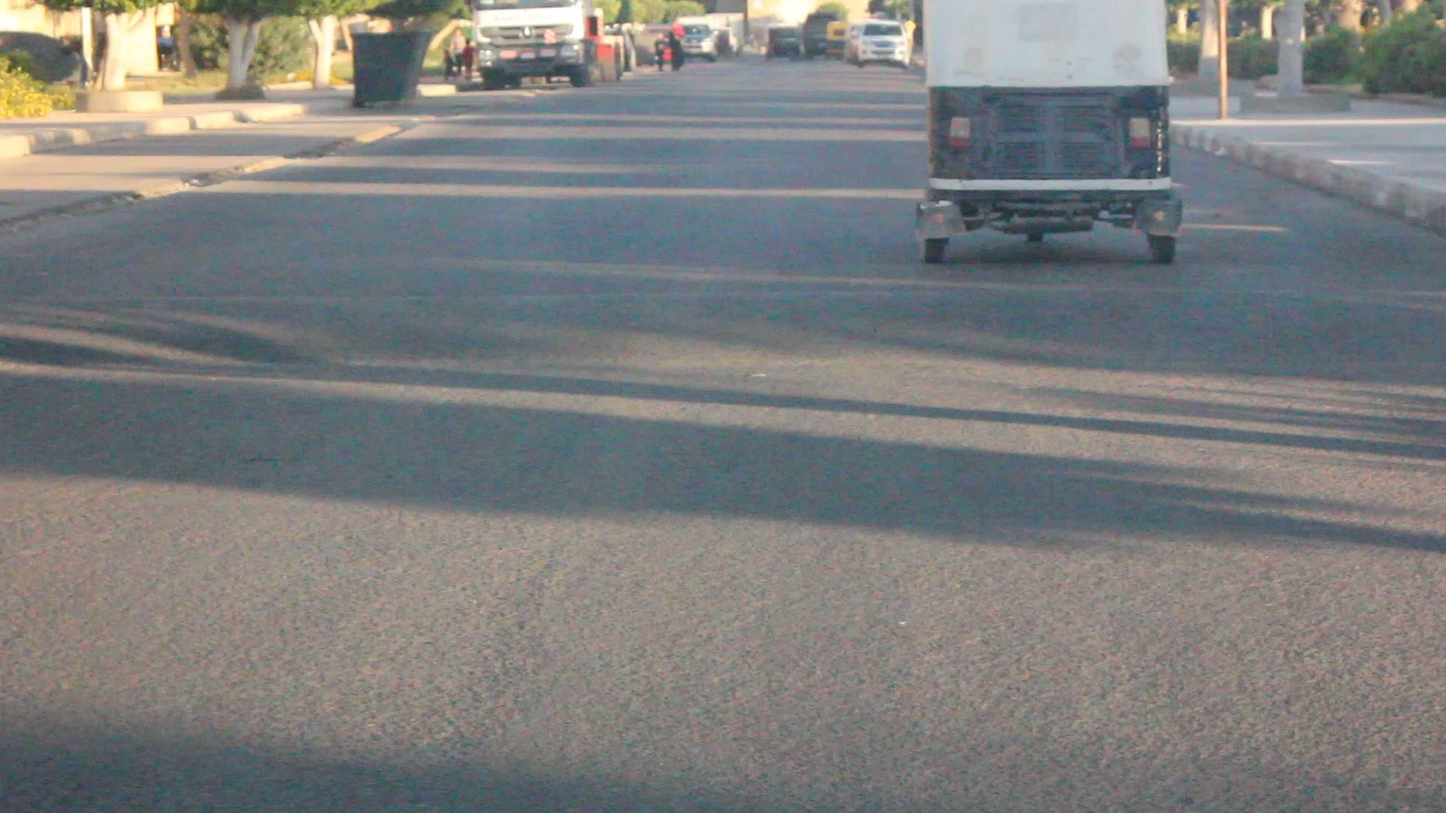Bump: (2, 294, 1446, 361)
